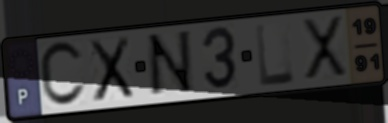3: (198, 23, 240, 95)
C: (37, 39, 88, 110)
L: (253, 21, 298, 89)
N: (145, 28, 197, 100)
X: (86, 34, 136, 106), (300, 13, 350, 82)
